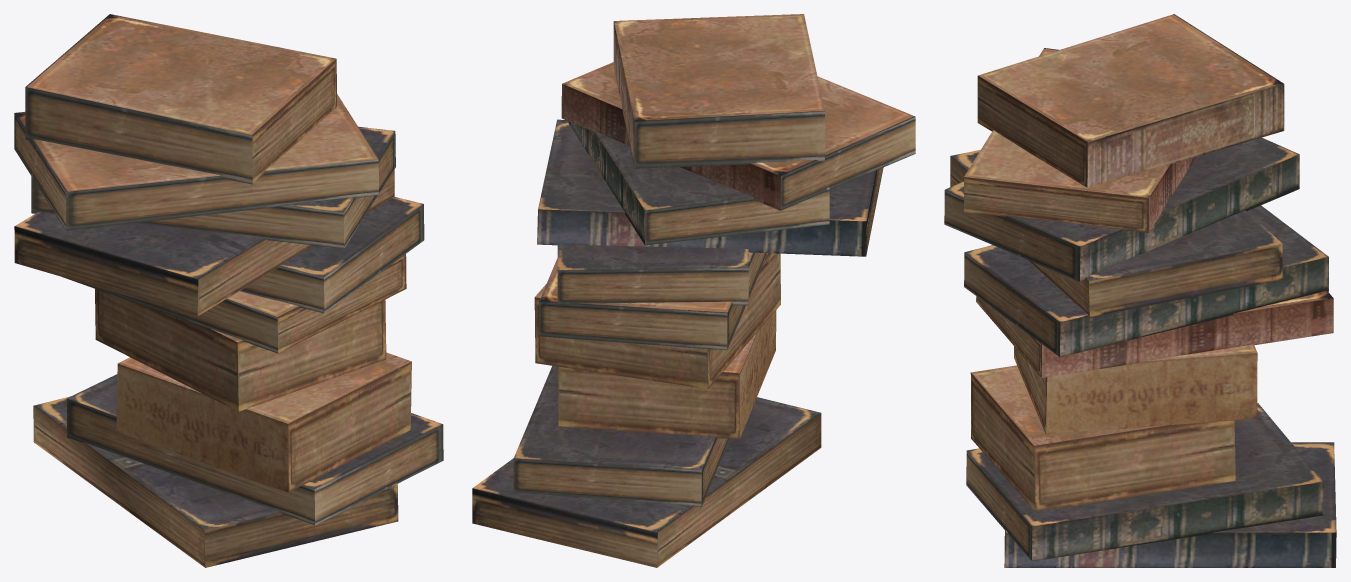
Rendered from bg_lut_memonast_book01a_sm_old.FBX.
The picture shows the model from 3 angles, left to right: view 1: azimuth 30°, elevation 25°; view 2: azimuth 150°, elevation 25°; view 3: azimuth 270°, elevation 25°; orthographic projection. The views are drawn at different scales.
Parts seen in each view (by area): view 1: bg_lut_memonast_book01a_sm_old; view 2: bg_lut_memonast_book01a_sm_old; view 3: bg_lut_memonast_book01a_sm_old.
Boxes of the visible parts, x1,y1,x2,y2 form: bg_lut_memonast_book01a_sm_old: [14, 14, 443, 567]; bg_lut_memonast_book01a_sm_old: [472, 14, 915, 567]; bg_lut_memonast_book01a_sm_old: [944, 14, 1336, 567].
Bounding box in the file's own units: 56.13 × 63.42 × 53.55.
